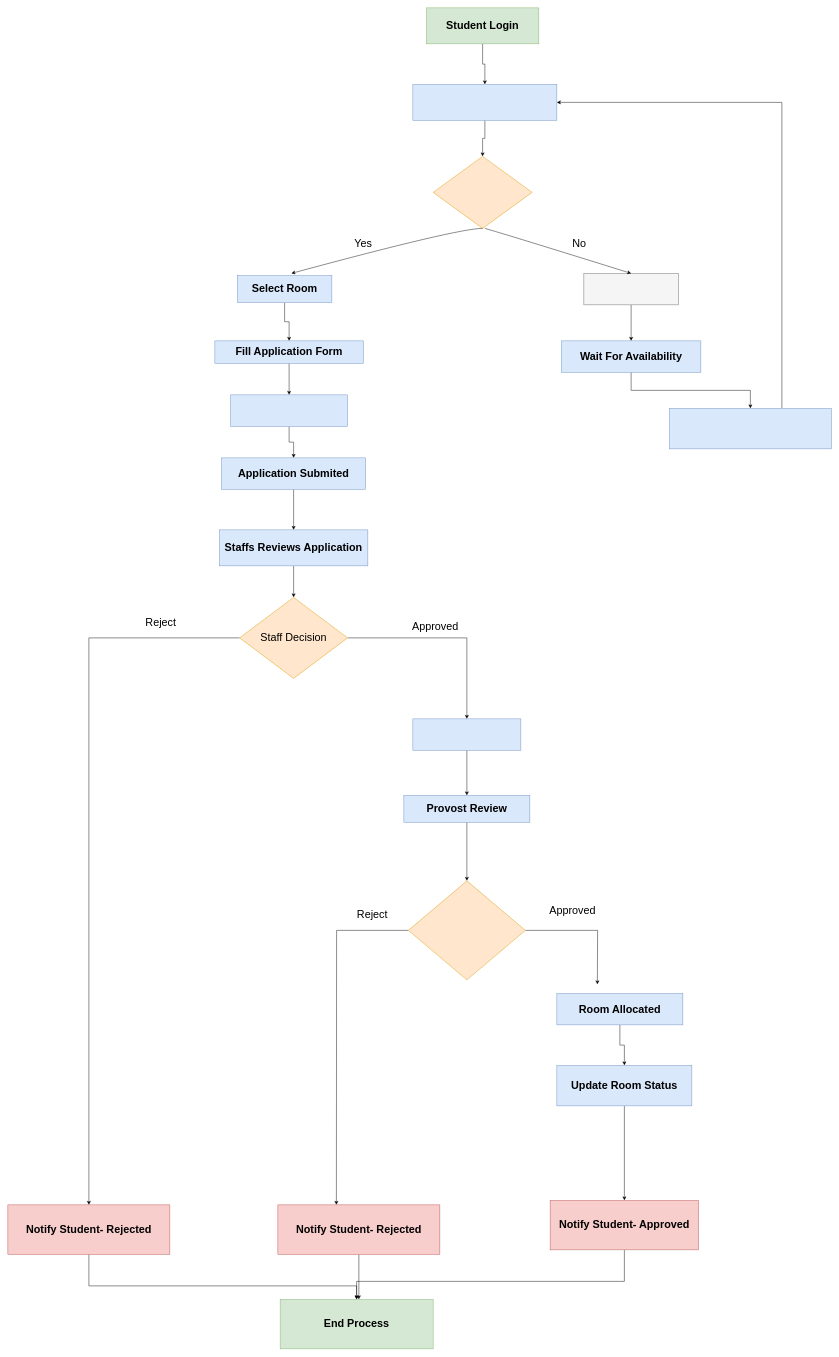
Image size: 839x1357. Some labels were removed from this diagram. The shapes that lost their labels are listed below. From the top down, each one's box as (x1, y1, x2, y2) in pixels, then its label:
(412, 84, 557, 120): View Available Room
(433, 156, 532, 228): Room Available
(583, 273, 678, 305): Join waiting list
(230, 394, 348, 426): Submit Application
(669, 408, 831, 449): Notification Sent
(412, 718, 521, 750): Forward Provost
(408, 880, 525, 980): Provost Decision
